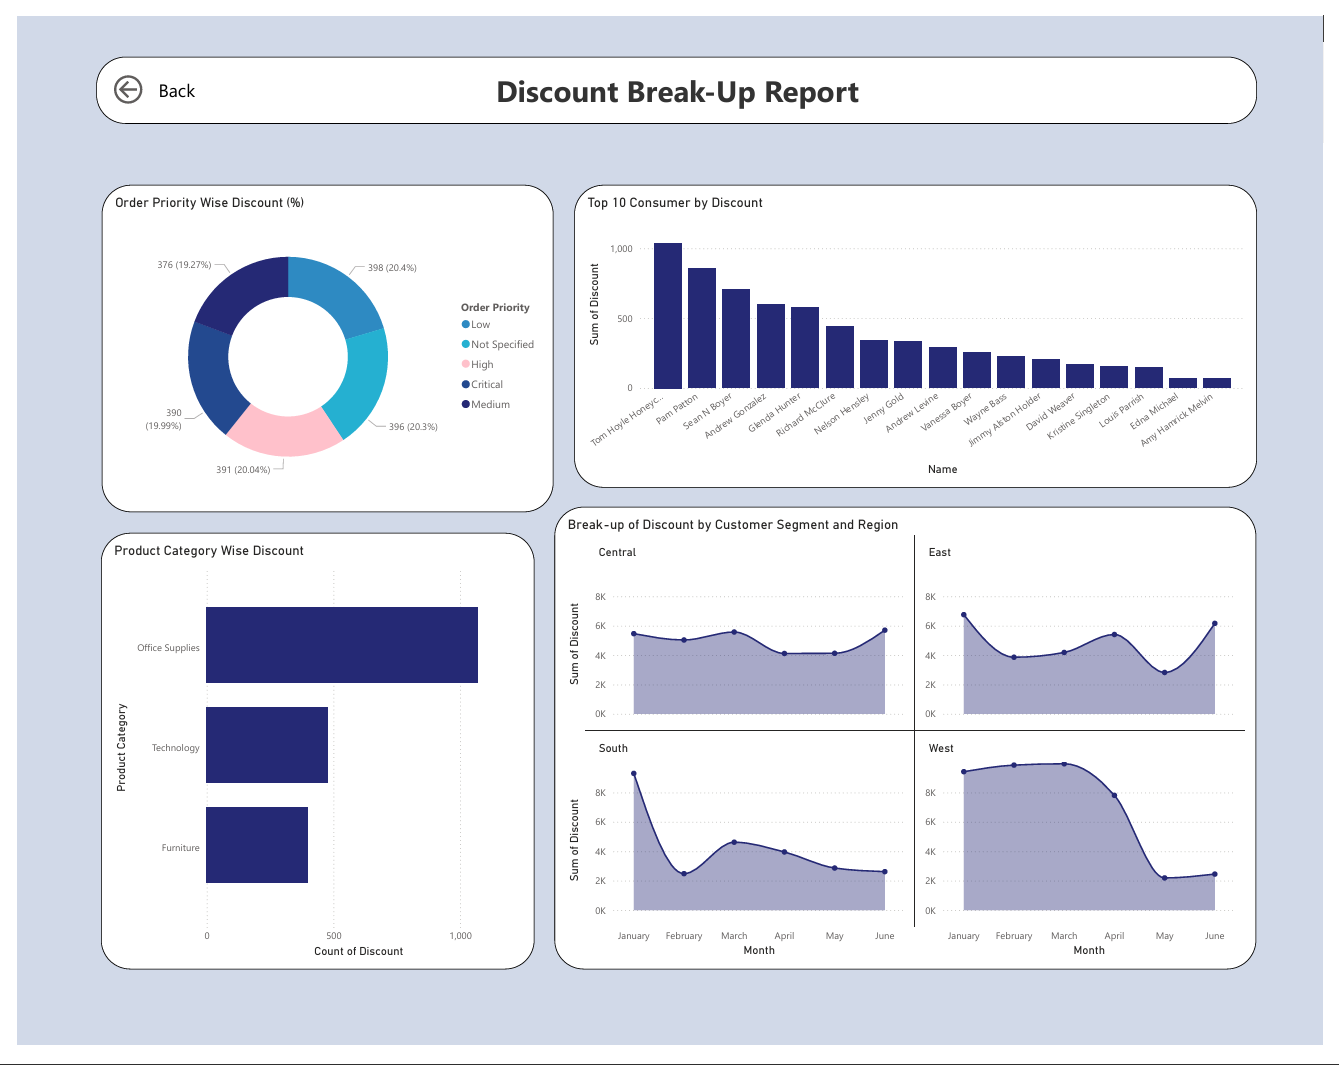

What the dashboard file says about the page in this screenshot:
{"tool":"powerbi","page":{"name":"Discount Report","canvas":[1650,1300],"ordinal":1},"visuals":[{"type":"donutChart","title":"Order Priority Wise Discount (%)","fields":{"Y":["KPI_Task.Discount"],"Category":["Raw Data.Order Priority"]},"box":[106.7,213.3,571.1,413.3],"z":0},{"type":"columnChart","title":"Top 10 Consumer by Discount","fields":{"Y":["KPI_Task.Discount"],"Category":["Customer info.Name"]},"box":[704.4,213.3,862.2,382.2],"z":1000},{"type":"barChart","title":"Product Category Wise Discount","fields":{"Category":["Raw Data.Product Category"],"Y":["KPI_Task.Discount"]},"box":[106.3,652.5,547.5,552.5],"z":2000},{"type":"areaChart","title":"Break-up of Discount  by Customer Segment and Region","fields":{"Rows":["Raw Data.Region"],"Y":["KPI_Task.Discount"],"Category":["Raw Data.Order Date.Variation.Date Hierarchy.Month"]},"box":[678.8,620,887.5,585],"z":3000},{"type":"textbox","box":[100,51.1,1466.7,84.4],"z":4000},{"type":"actionButton","box":[107.5,60,130,65],"z":5000}]}

Visuals, with their boxes in screenshot pixels (x1, y1, x2, y2), scaled from the page's 1650x1300 canvas onto the 1339x1065 screenshot:
"Order Priority Wise Discount (%)" donutChart: 87 175 550 513
"Top 10 Consumer by Discount" columnChart: 572 175 1271 488
"Product Category Wise Discount" barChart: 86 535 531 987
"Break-up of Discount  by Customer Segment and Region" areaChart: 551 508 1271 987
textbox: 81 42 1271 111
actionButton: 87 49 193 102
